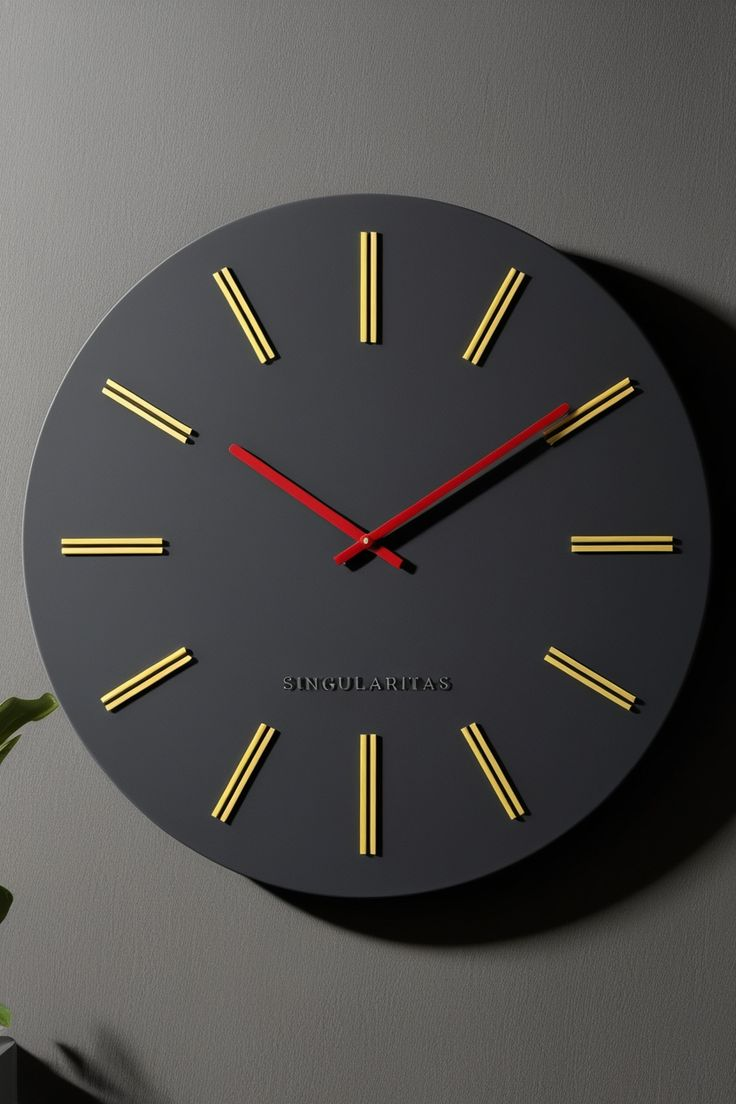clock: (12, 125, 736, 935)
